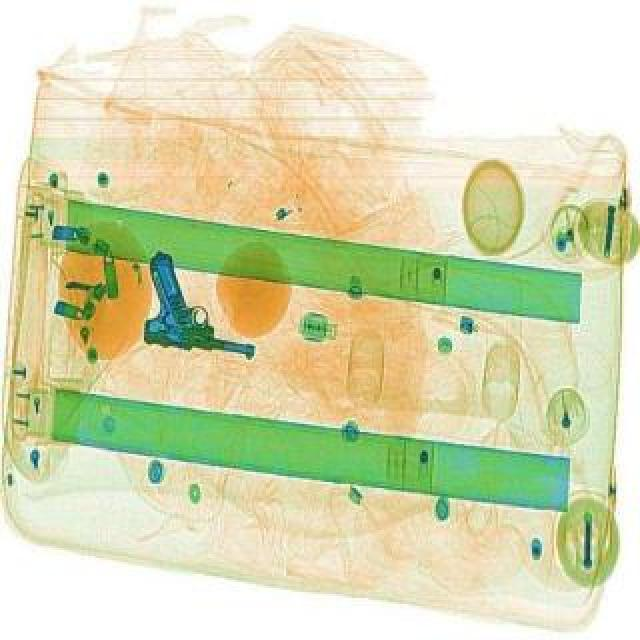gun: (132, 252, 272, 364)
